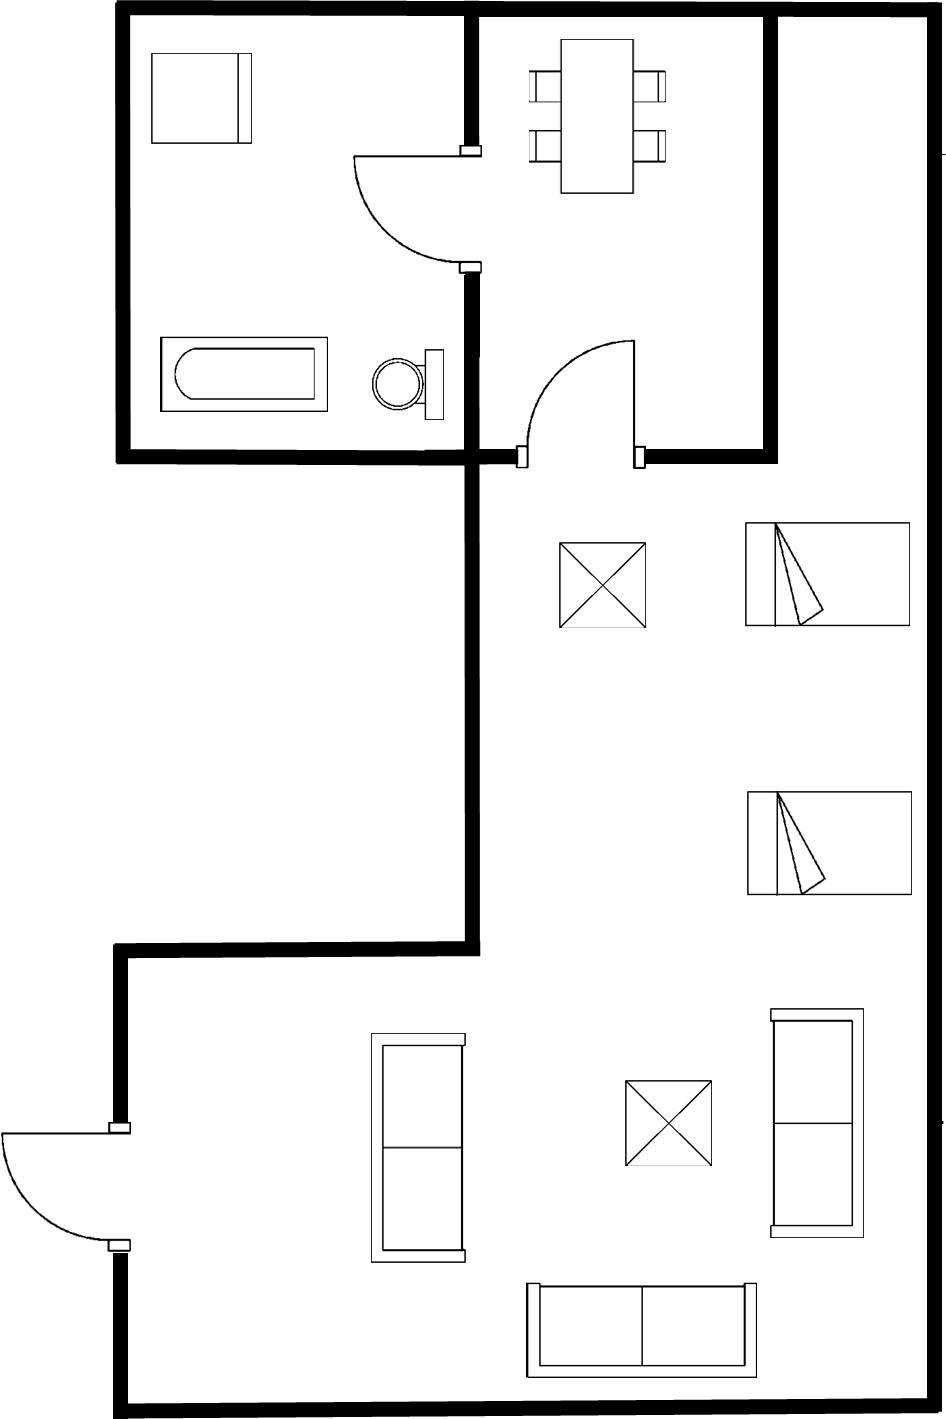bed: (737, 781, 921, 905), (737, 510, 915, 637)
dining_table: (519, 30, 673, 204)
sofa: (358, 1026, 473, 1270), (761, 998, 869, 1247), (518, 1278, 762, 1385)
toilet: (365, 341, 450, 425)
tub: (150, 330, 334, 420)
